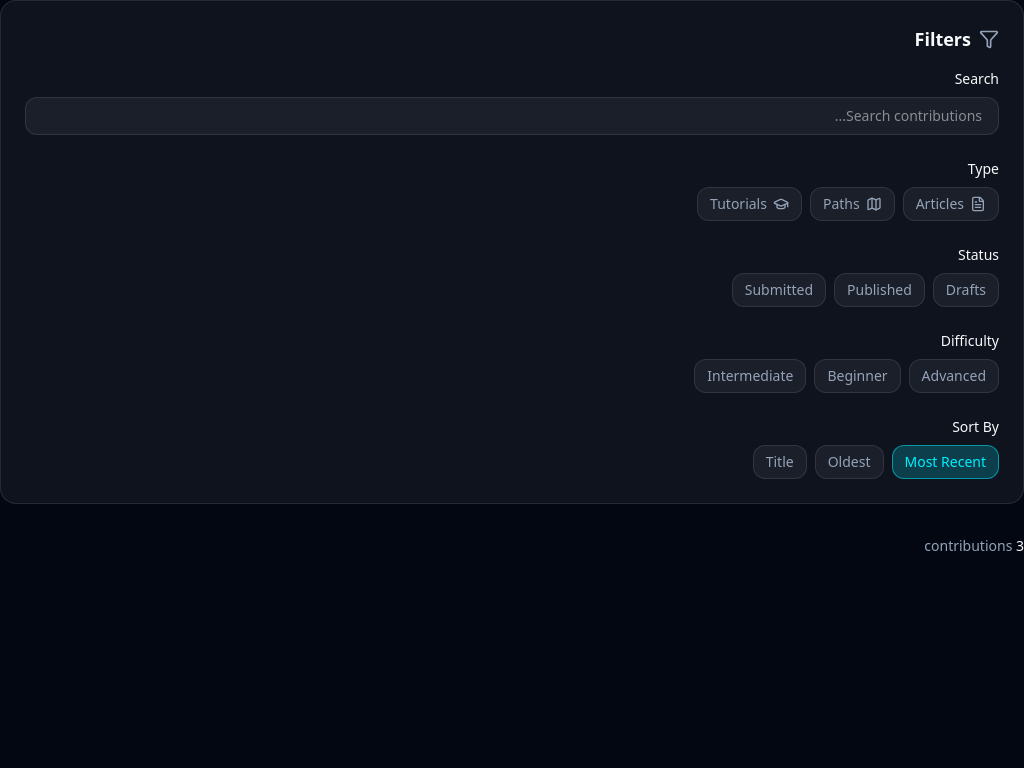
Test: ContributionList › filters by status
# Click published filter button
Click the button "Published" at coordinates (879, 290), box [834, 273, 925, 307]
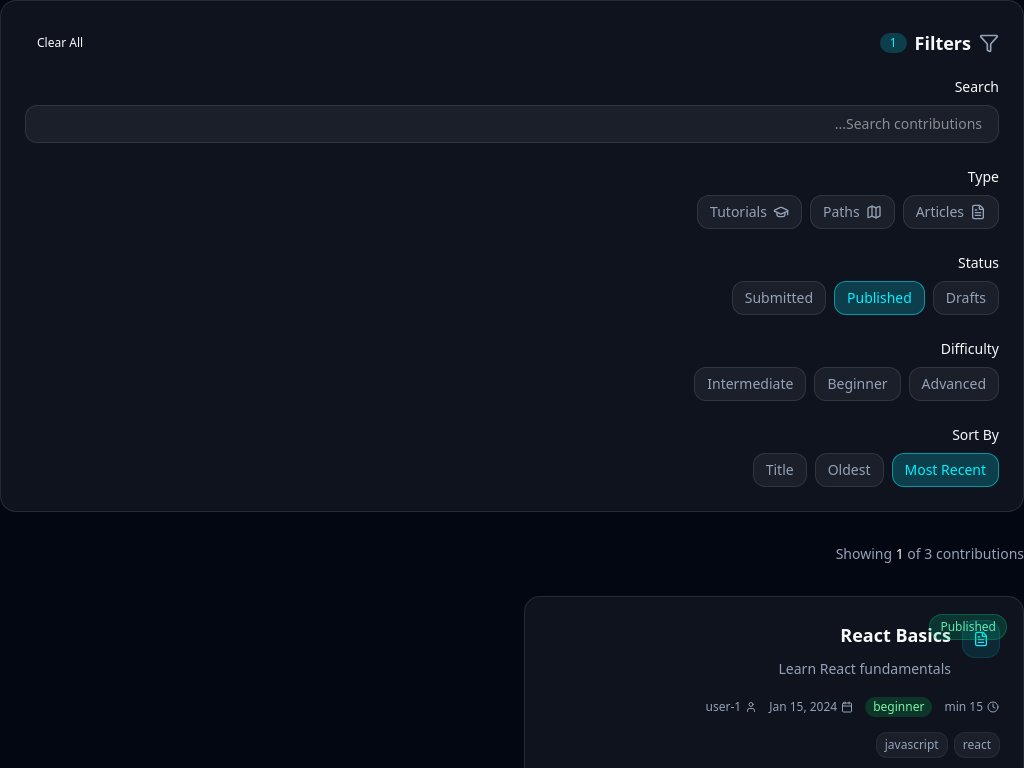
expect the heading "React Basics" is shown: met, box [840, 623, 951, 647]
